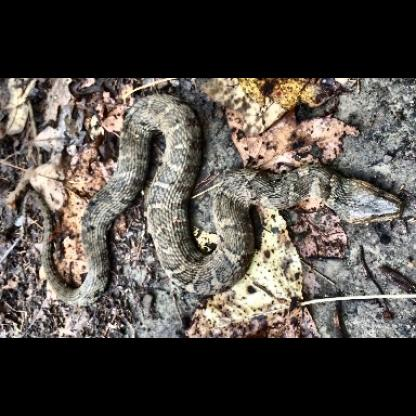Snake: (9, 95, 410, 314)
